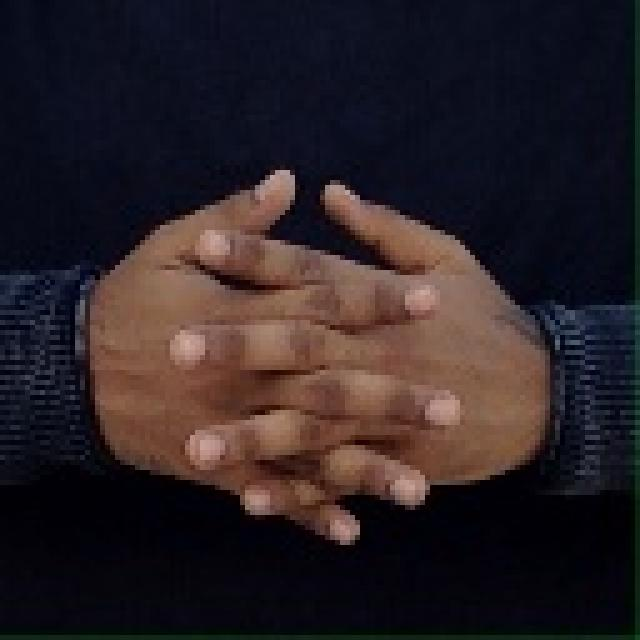Alphabet-W: (61, 169, 594, 545)
